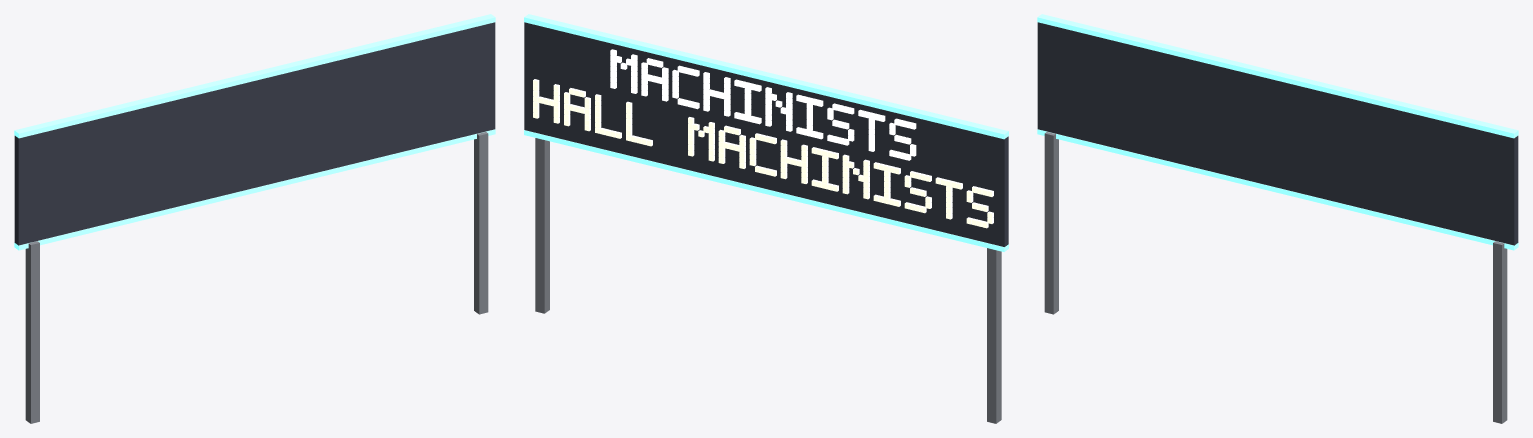
The model's file is wing-sign-hall-machinists.glb.
The picture shows the model from 3 angles, left to right: view 1: azimuth 30°, elevation 25°; view 2: azimuth 150°, elevation 25°; view 3: azimuth 330°, elevation 25°; orthographic projection.
Parts seen in each view (by area): view 1: Sign · Machinists; view 2: Sign · Machinists; view 3: Sign · Machinists.
Boxes of the visible parts, bbox=[...] form: Sign · Machinists: bbox=[14, 14, 495, 423]; Sign · Machinists: bbox=[524, 14, 1008, 423]; Sign · Machinists: bbox=[1037, 14, 1518, 423].
Size of the model in its own units: 8.37 by 4.88 by 0.254.
